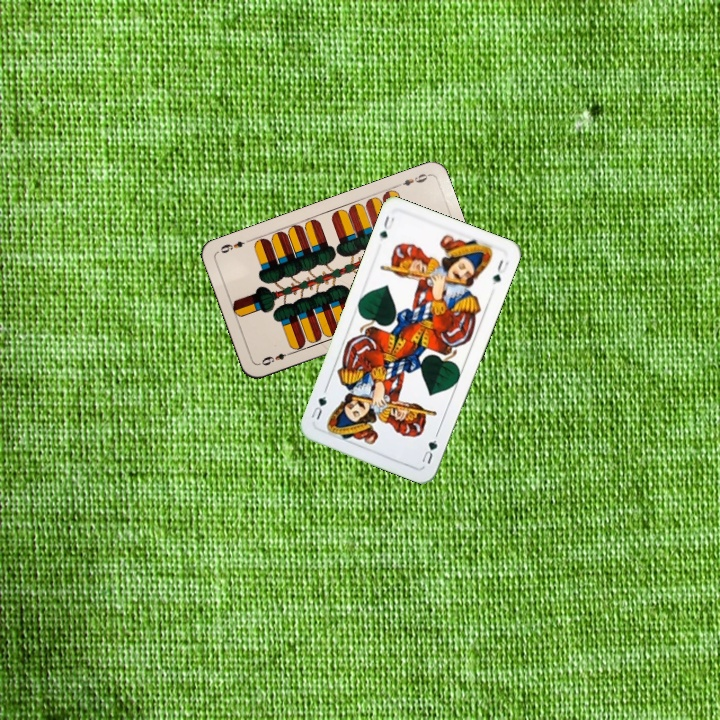E9: (392, 169, 431, 190), (256, 348, 295, 368)
GU: (418, 429, 441, 466), (375, 211, 397, 241)
